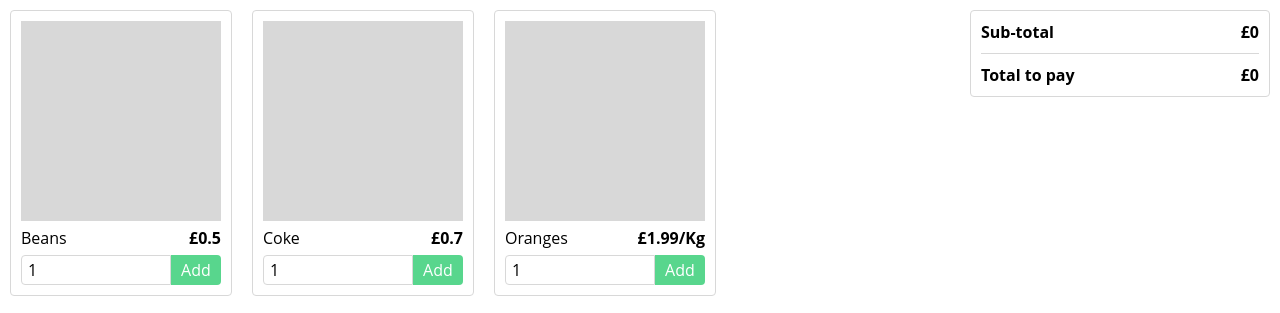
End to end test › Should add a product with offer
Click the button with test id "add-product" below "Beans" at (196, 270), box 171,255 -> 221,285
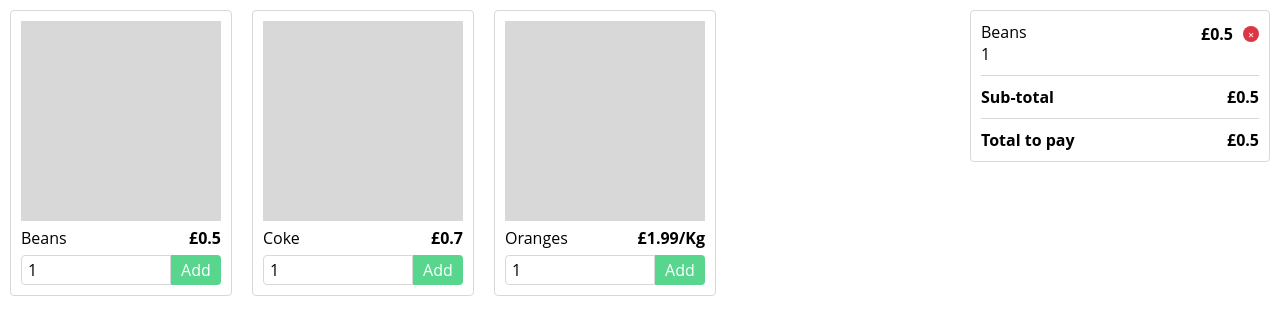
Click the 1st button with test id "add-product" at (196, 270), box 171,255 -> 221,285
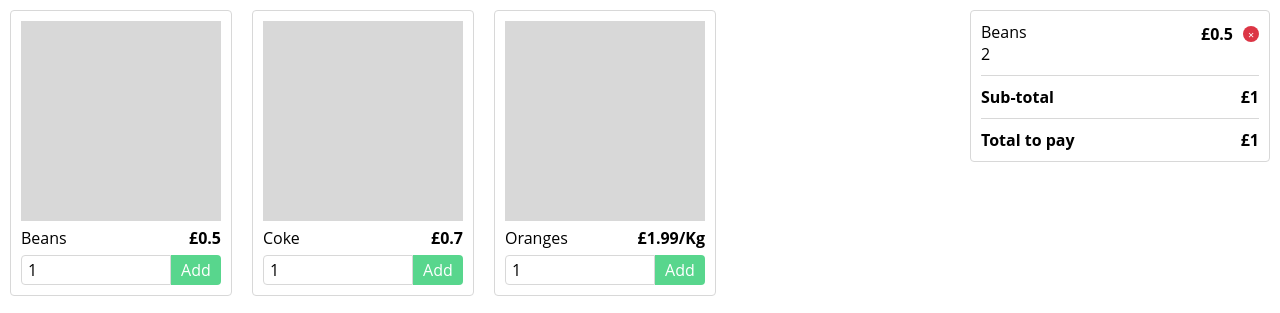
Click the 1st button with test id "add-product" at (196, 270), box 171,255 -> 221,285
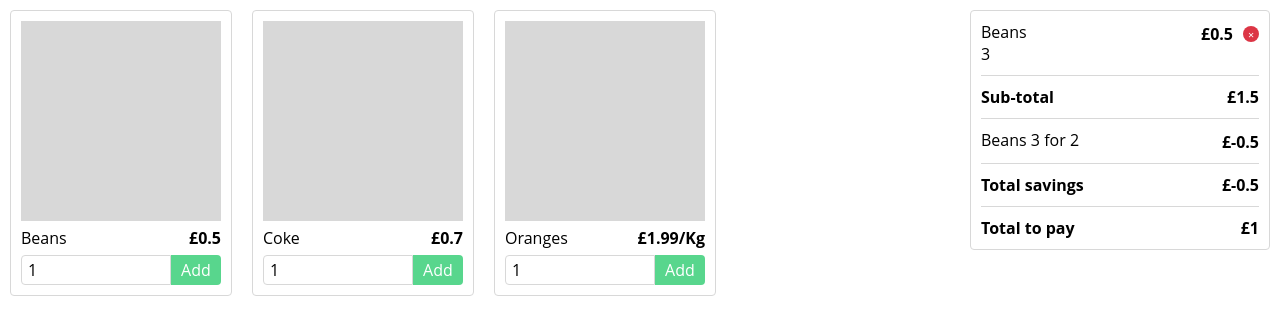
Expected: the text "£1" is shown, 1241,217 -> 1259,239
Expected: the text "£1.5" is shown, 1227,86 -> 1259,108
Expected: the text "£-0.5" next to "Total savings" is shown, 1222,174 -> 1259,196
